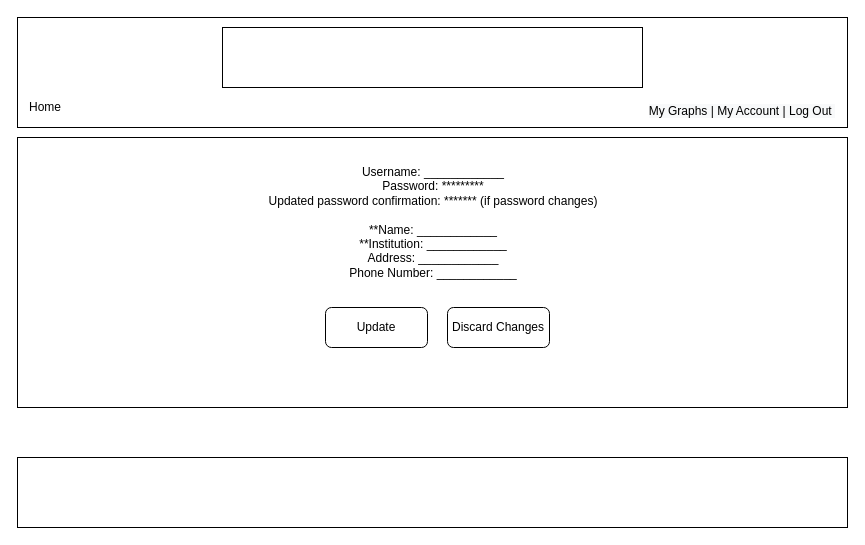
Some shapes in this 865 by 545 pixel diagram are drawn without their labels. The centre of each missing label's shape, as x and y in pixels:
"About Us | Contact Us | <href vue.js> | trello board link idk" goes at point (432, 492).
"Website Title" goes at point (432, 57).
